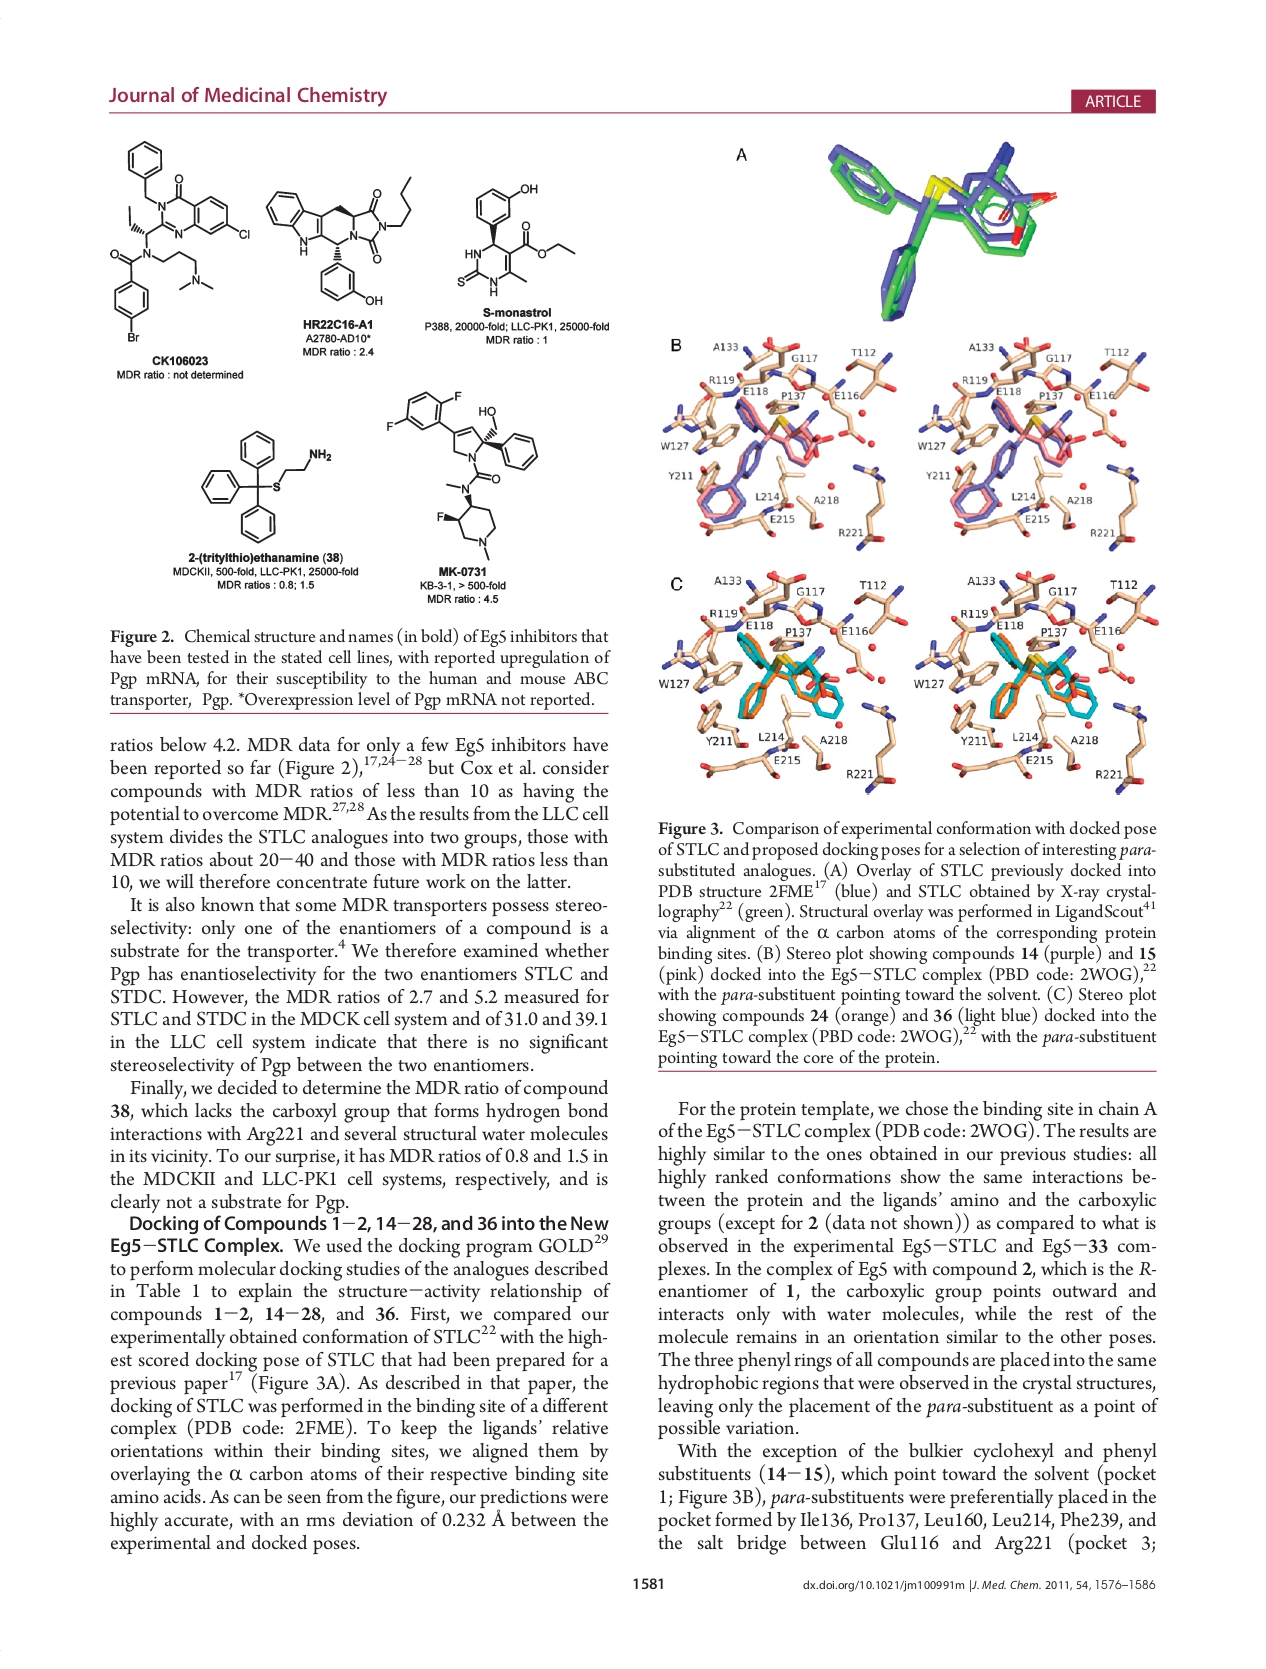exist_molecular: (102, 136, 251, 342), (384, 384, 541, 563), (262, 174, 418, 313), (197, 426, 336, 544), (449, 177, 578, 297)
